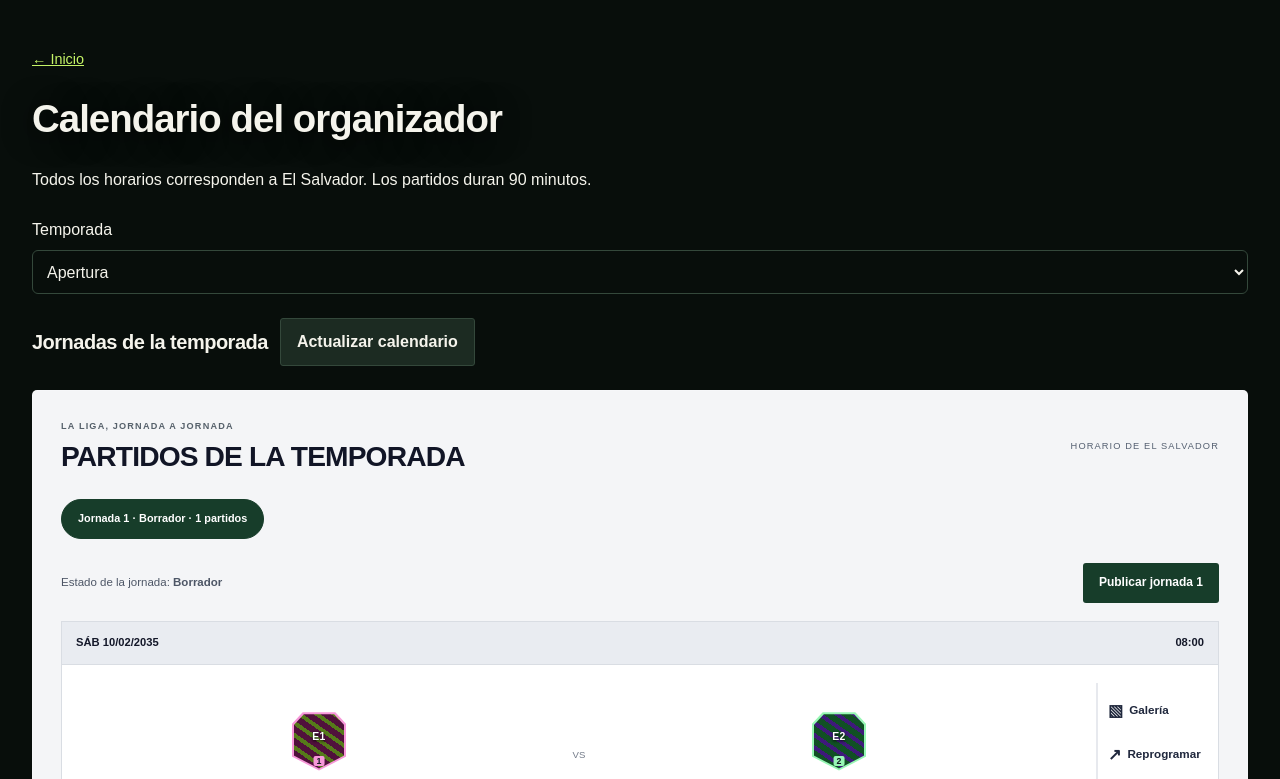
Test: FE-3.1 calendario › conserva el diálogo y no anuncia publicación si el servicio falla
Click the button "Publicar jornada 1" at (1151, 583), box [1083, 563, 1219, 603]
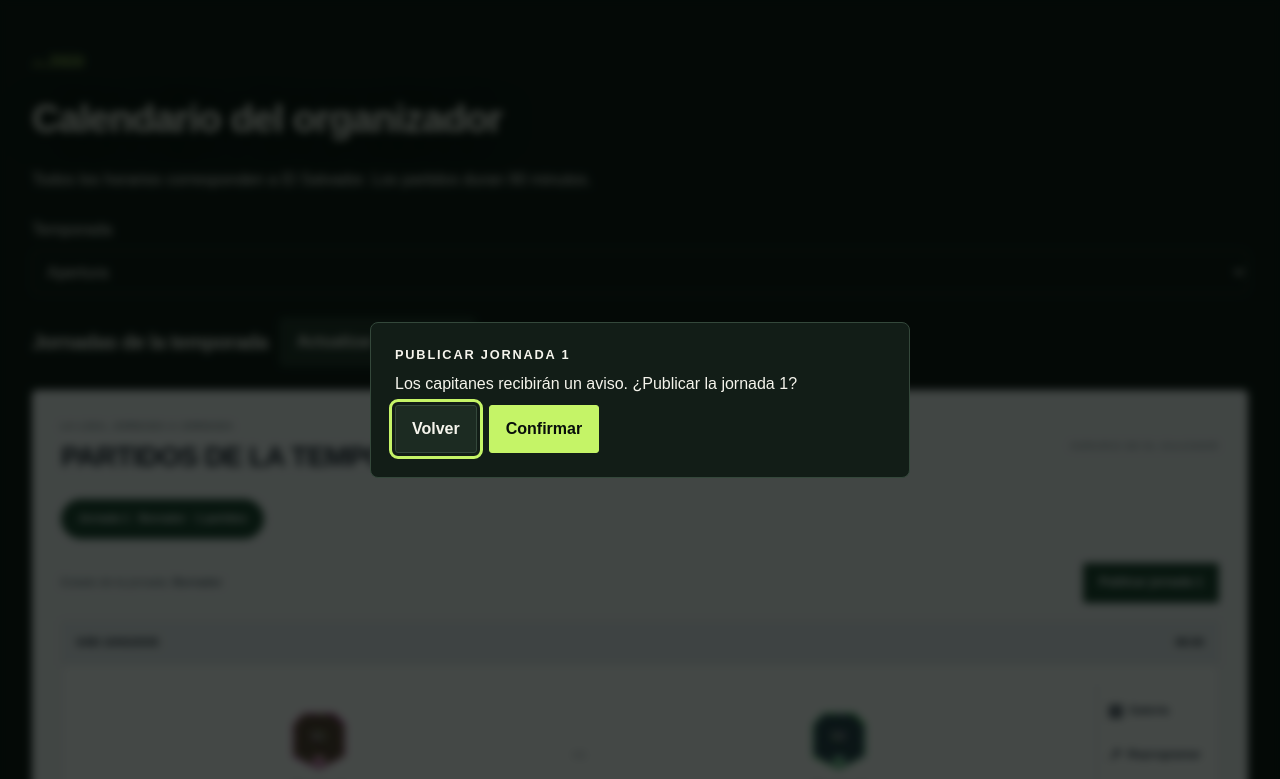
Click the button "Confirmar" at (544, 429), box [489, 405, 599, 453]
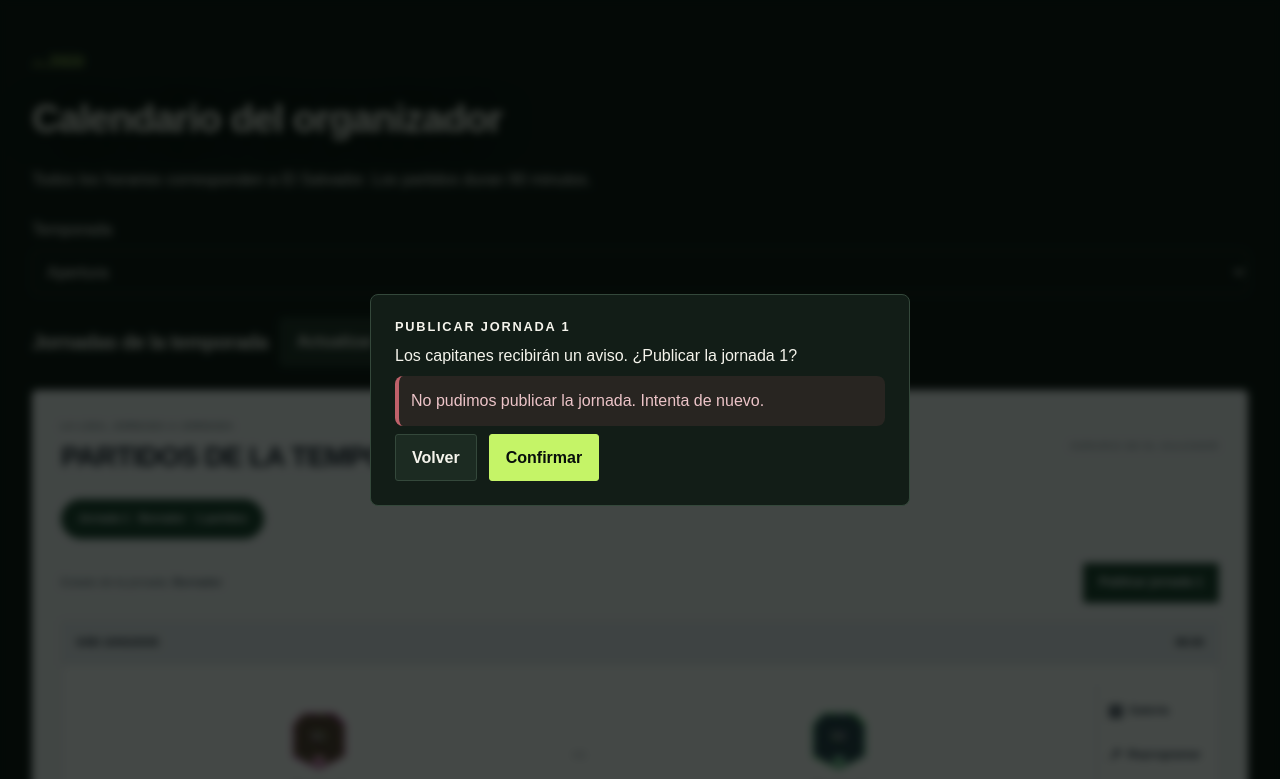
Now the dialog is shown, box [370, 294, 910, 506]
Now the text "No pudimos publicar la jornada. Intenta de nuevo." is shown, box [411, 392, 764, 409]
